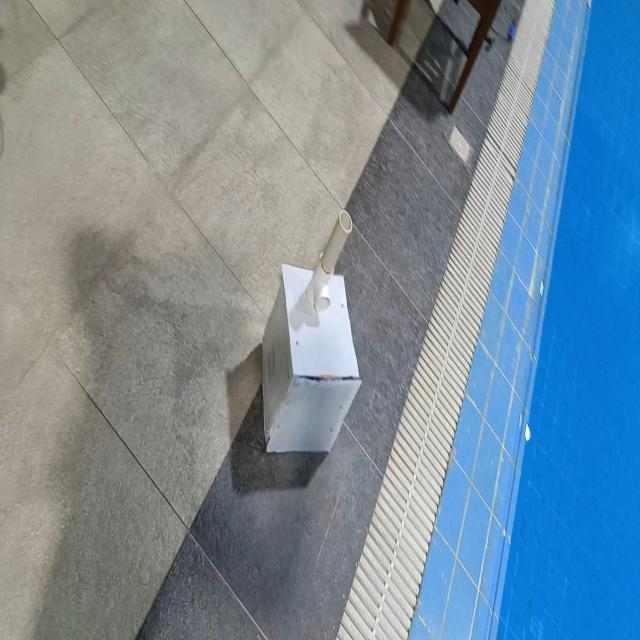Cube: (260, 266, 362, 459)
